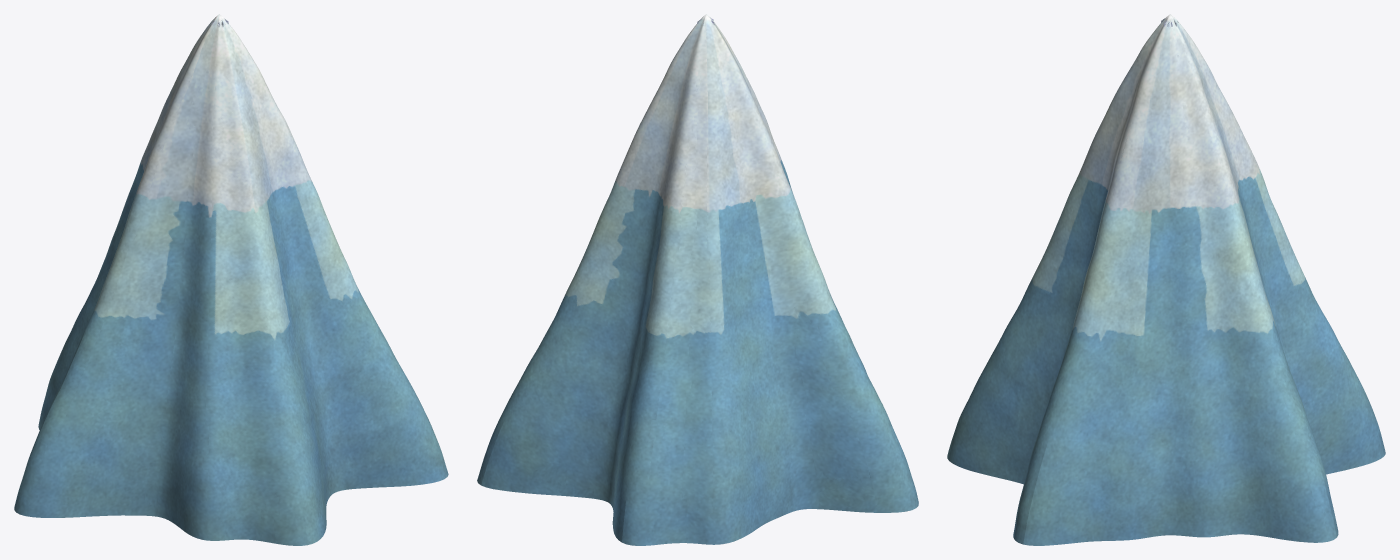
Rendered from WM_SnowPeak_A.fbx.
3 renders of one model, left to right at view 1: azimuth 30°, elevation 25°; view 2: azimuth 150°, elevation 25°; view 3: azimuth 270°, elevation 25°, orthographic.
Visible parts, largest first — view 1: WM_SnowPeak_A_LOD0; view 2: WM_SnowPeak_A_LOD0; view 3: WM_SnowPeak_A_LOD0.
Boxes of the visible parts, x1=… form: WM_SnowPeak_A_LOD0: x1=14, y1=14, x2=448, y2=545; WM_SnowPeak_A_LOD0: x1=477, y1=14, x2=918, y2=545; WM_SnowPeak_A_LOD0: x1=947, y1=14, x2=1385, y2=545.
Size of what is drawn, in the model's own units: 10.27 by 11.95 by 10.48.
